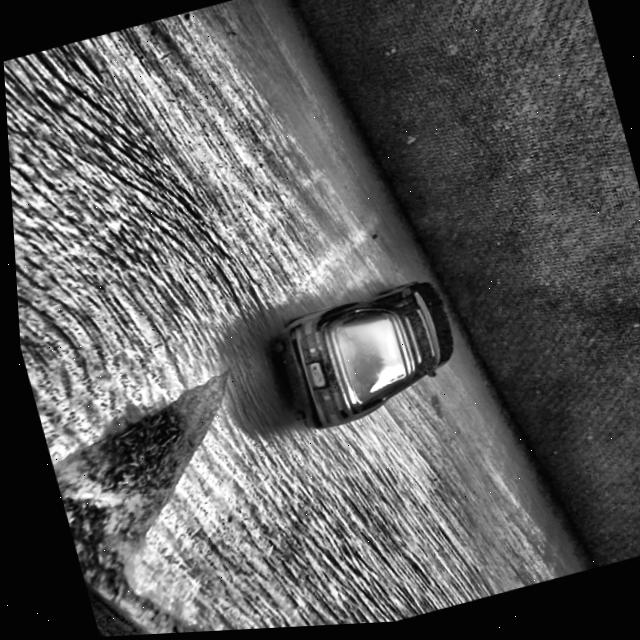car: (257, 277, 466, 441)
